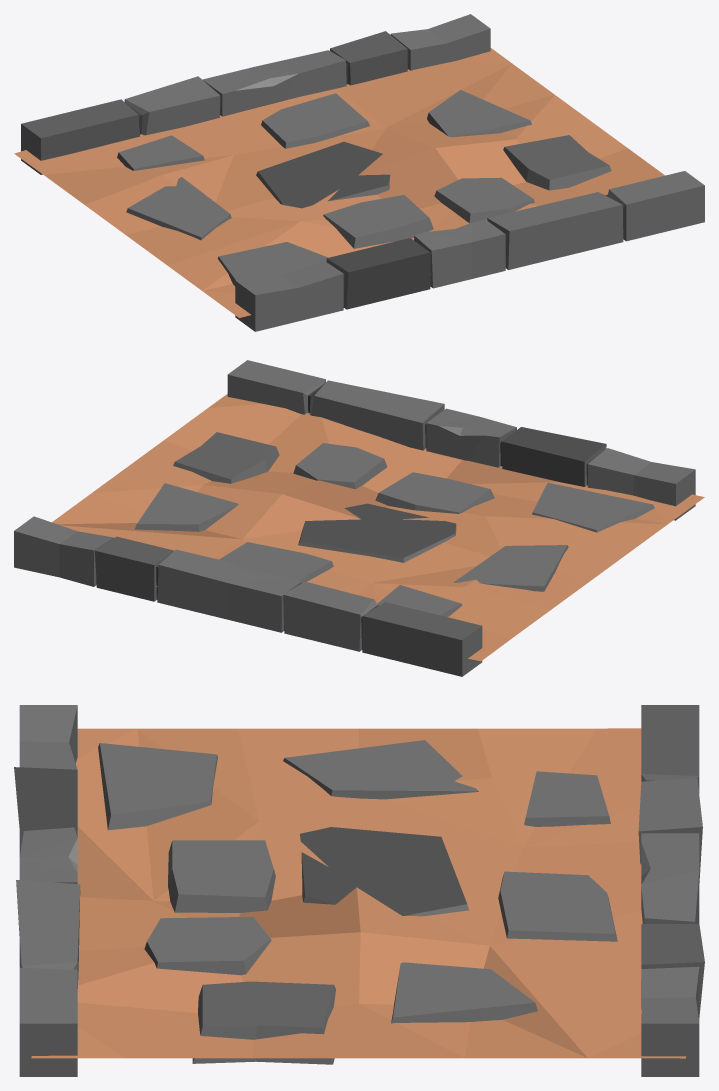
File: road_01.fbx
3 views of the same model, one above another, from view 1: azimuth 30°, elevation 25°; view 2: azimuth 150°, elevation 25°; view 3: azimuth 270°, elevation 25° (orthographic). The views are drawn at different scales.
Visible parts, largest first — view 1: road_01; view 2: road_01; view 3: road_01.
Part boxes in pixels (x1,y1,x2,y2): road_01: [14, 14, 704, 331]; road_01: [14, 360, 704, 676]; road_01: [14, 705, 704, 1076].
Size of the model in its own units: 3.81 by 0.3475 by 3.37.
